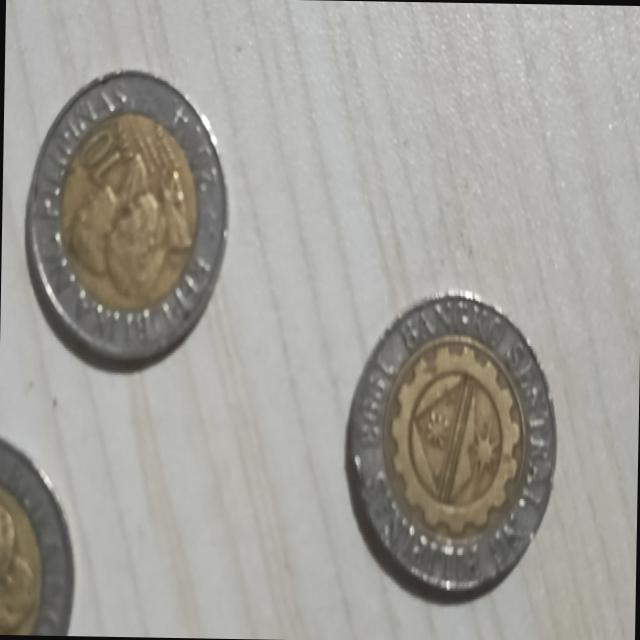10_peso: (347, 292, 555, 592), (25, 70, 227, 365)
